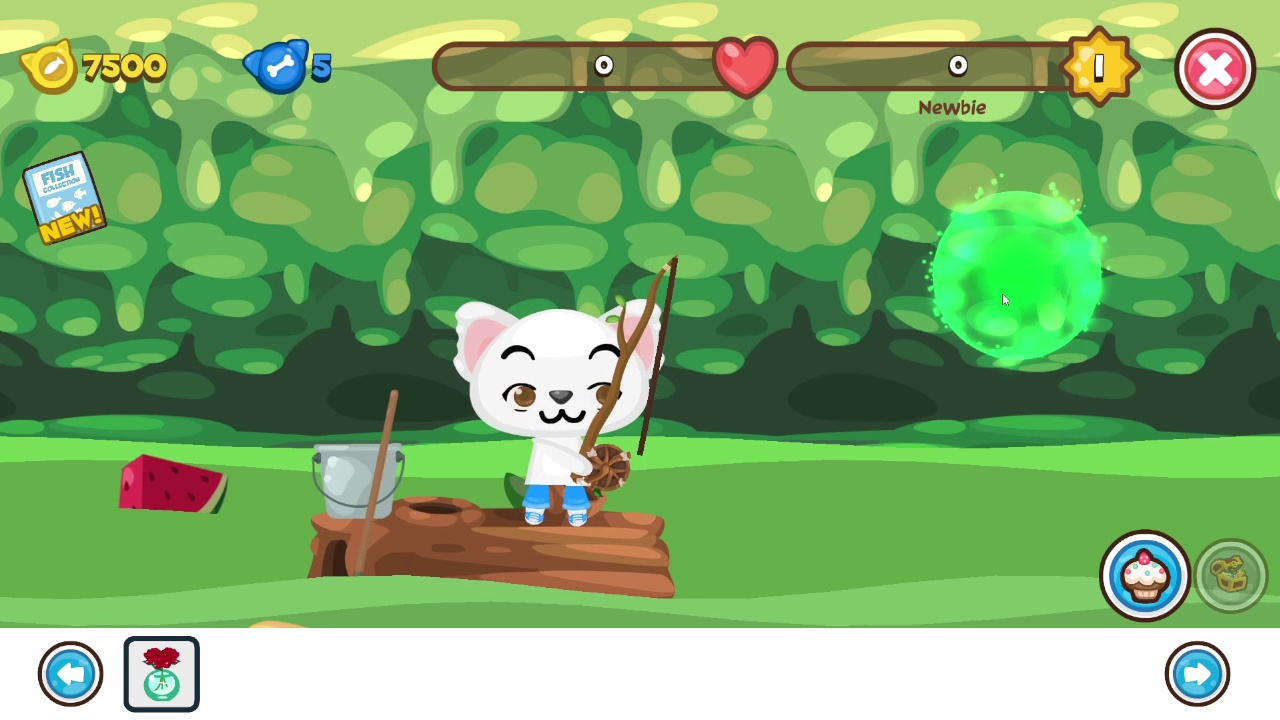point: (929, 189, 1104, 362)
